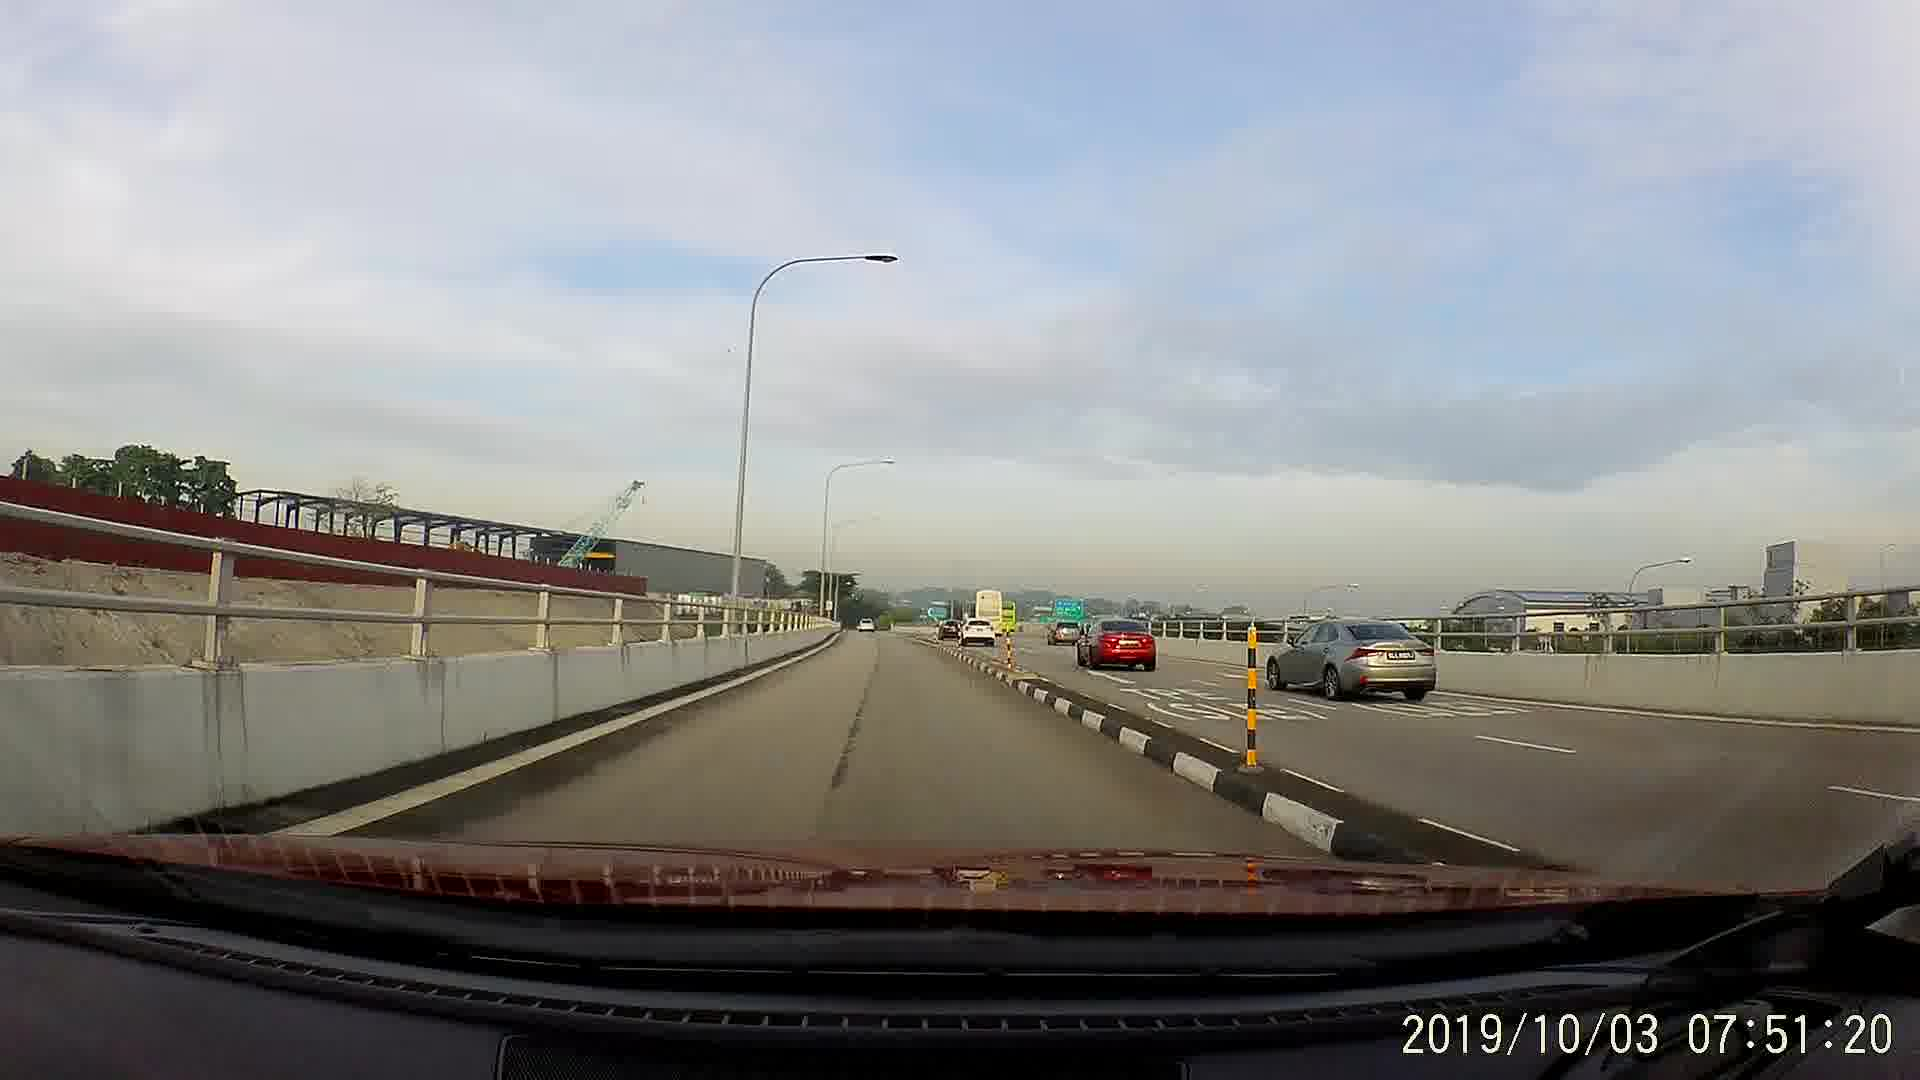bus: (975, 585, 1004, 636)
car: (1257, 617, 1444, 703), (1077, 618, 1158, 673), (1039, 616, 1084, 649), (961, 618, 1000, 647), (936, 617, 963, 641), (856, 615, 880, 634)
